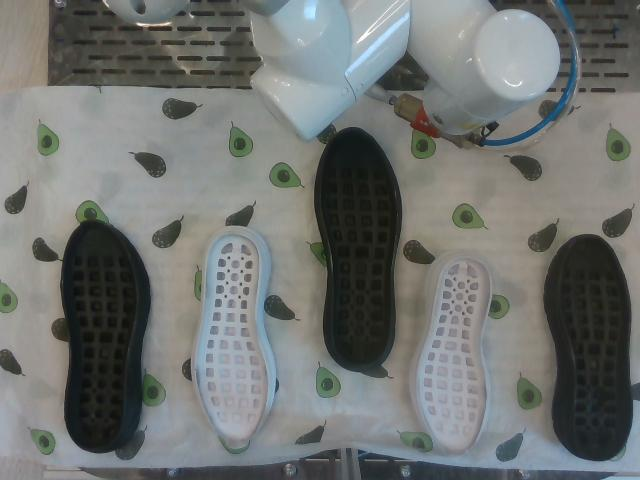shoes: (321, 130, 396, 363), (63, 221, 137, 449), (559, 236, 632, 460), (196, 234, 269, 447), (417, 257, 490, 454)
